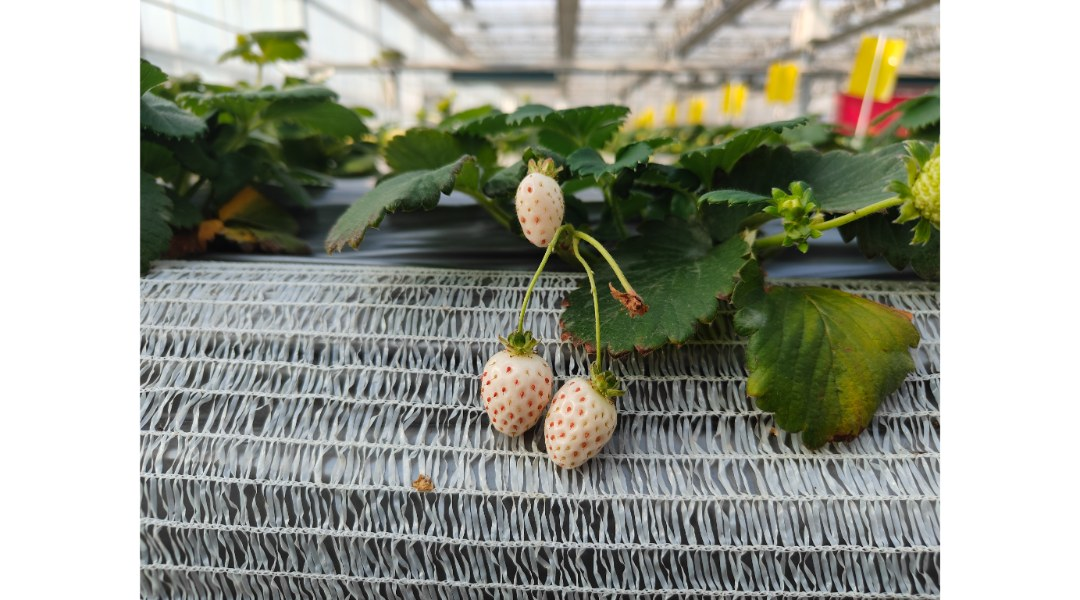berry: (474, 331, 552, 449), (550, 378, 634, 470), (510, 155, 566, 261)
strain: (501, 244, 553, 342), (578, 227, 640, 300), (581, 257, 605, 367)
